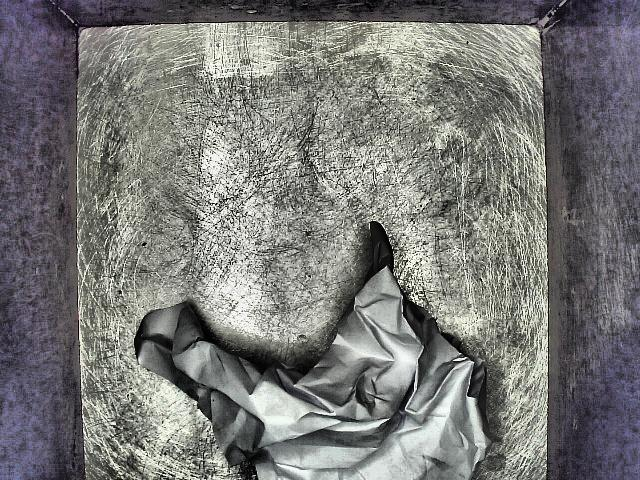Paper: (126, 214, 512, 480)
